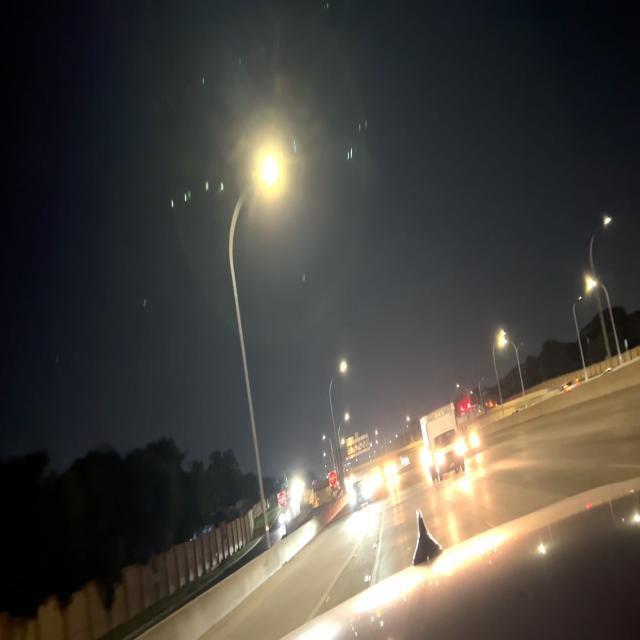back-of-sign: (345, 431, 371, 460)
